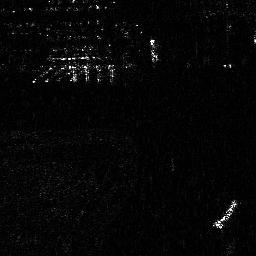ship: (214, 201, 239, 229), (150, 37, 159, 62)
